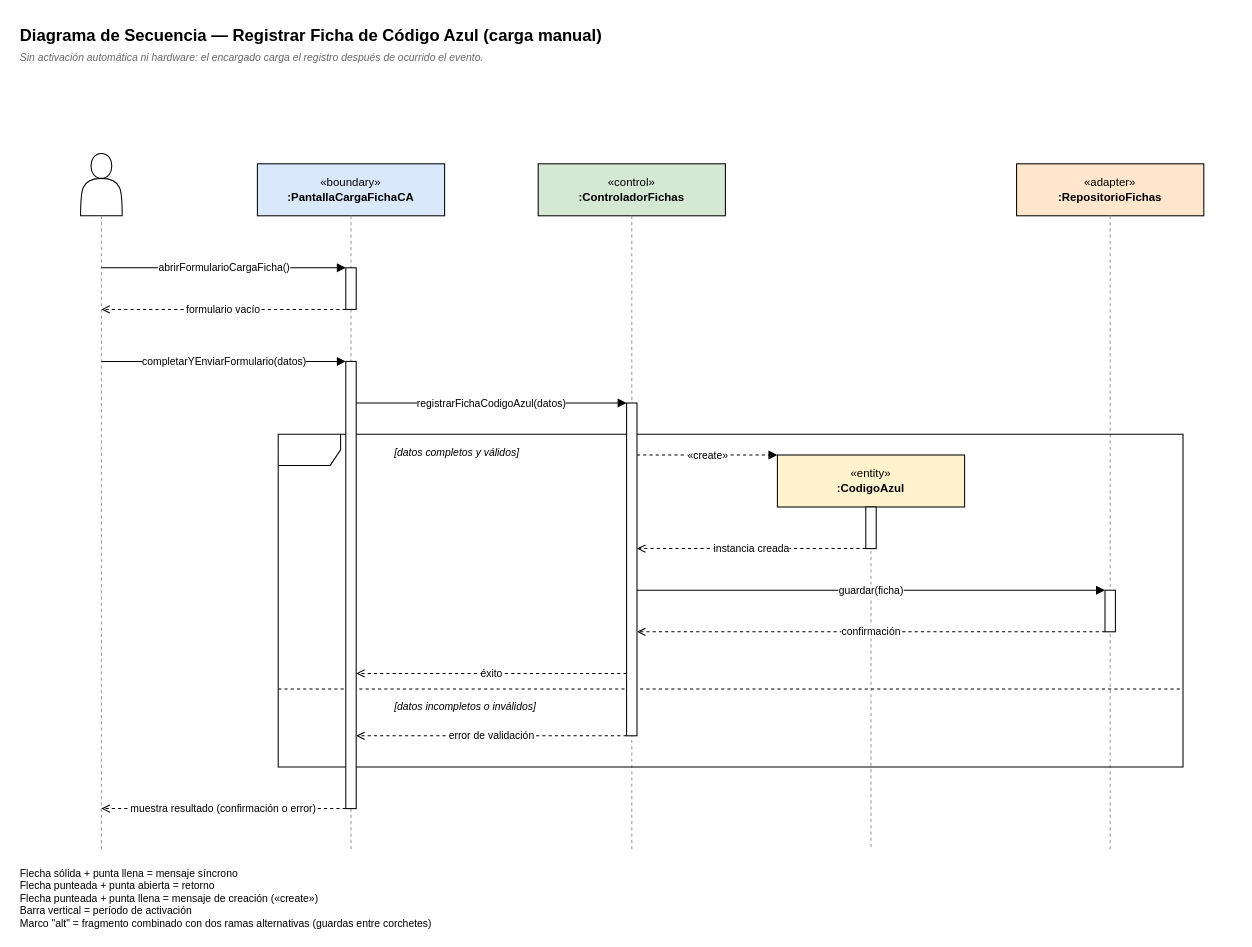
This 1252x947 diagram has some shape labels left out. The box of each missing label's shape, as (x1, y1, x2, y2) in pixels:
:EncargadoDeÁrea: (80, 152, 122, 216)
alt: (277, 433, 1183, 767)
